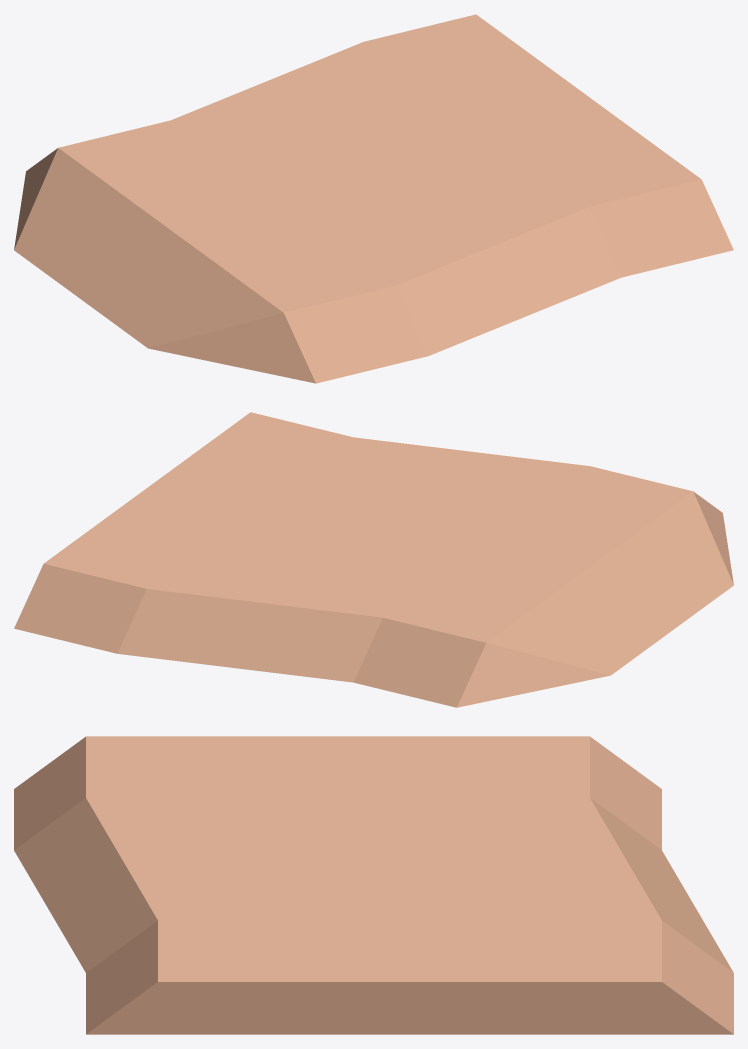
Rendered from kenney-nature-crops-dirt-row-end.glb.
3 renders of one model, top to bottom at view 1: azimuth 30°, elevation 25°; view 2: azimuth 150°, elevation 25°; view 3: azimuth 270°, elevation 25°, orthographic. The views are drawn at different scales.
Visible parts, largest first — view 1: crops_dirtRowEnd; view 2: crops_dirtRowEnd; view 3: crops_dirtRowEnd.
Part boxes in pixels (x1,y1,x2,y2): crops_dirtRowEnd: (14,14,733,383); crops_dirtRowEnd: (14,412,733,707); crops_dirtRowEnd: (14,736,733,1034).
Size of the model in its own units: 0.6 by 0.05 by 0.62.
